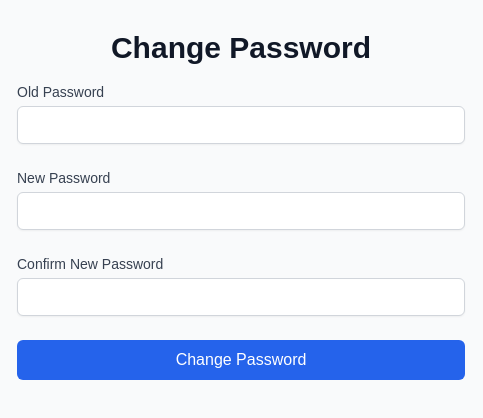
Test: ChangePasswordForm › handles unknown API errors
In the password field labelled "Old Password": (241, 125) [17,106,465,144], type "oldpass123"
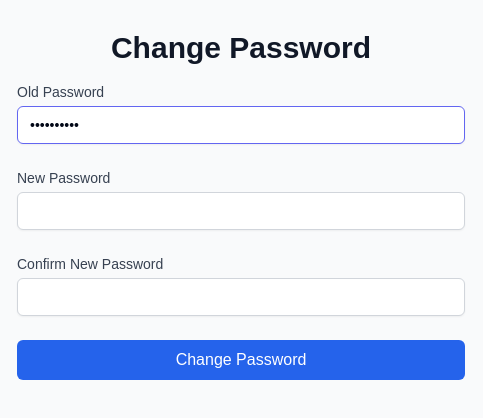
In the password field labelled "New Password": (241, 211) [17,192,465,230], type "newpass123"
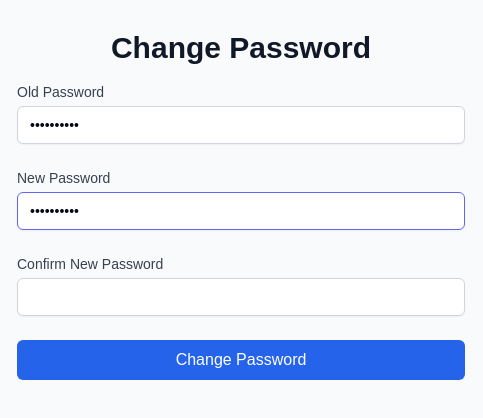
In the password field labelled "Confirm New Password": (241, 297) [17,278,465,316], type "newpass123"
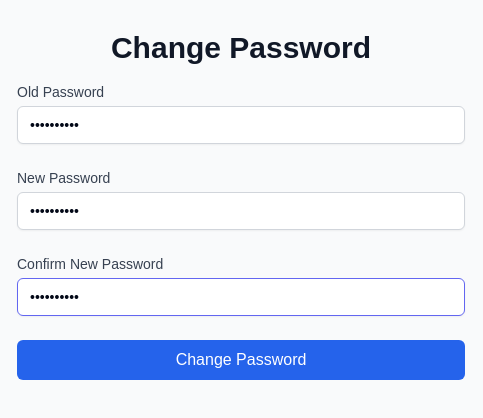
Click the button "Change Password": (241, 360) [17,340,465,380]
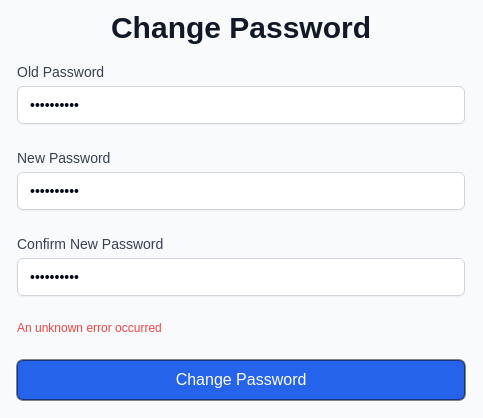
Expected: the text "An unknown error occurred" is shown, [17,321,162,335]
